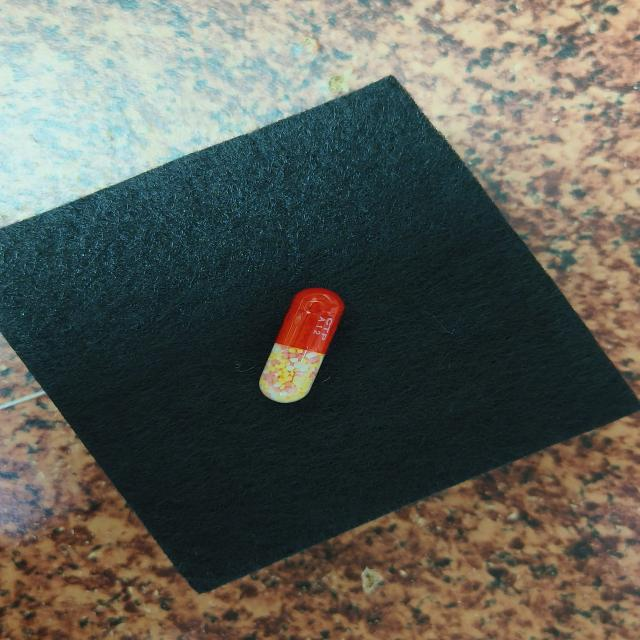Intact Capsule: (259, 287, 344, 403)
